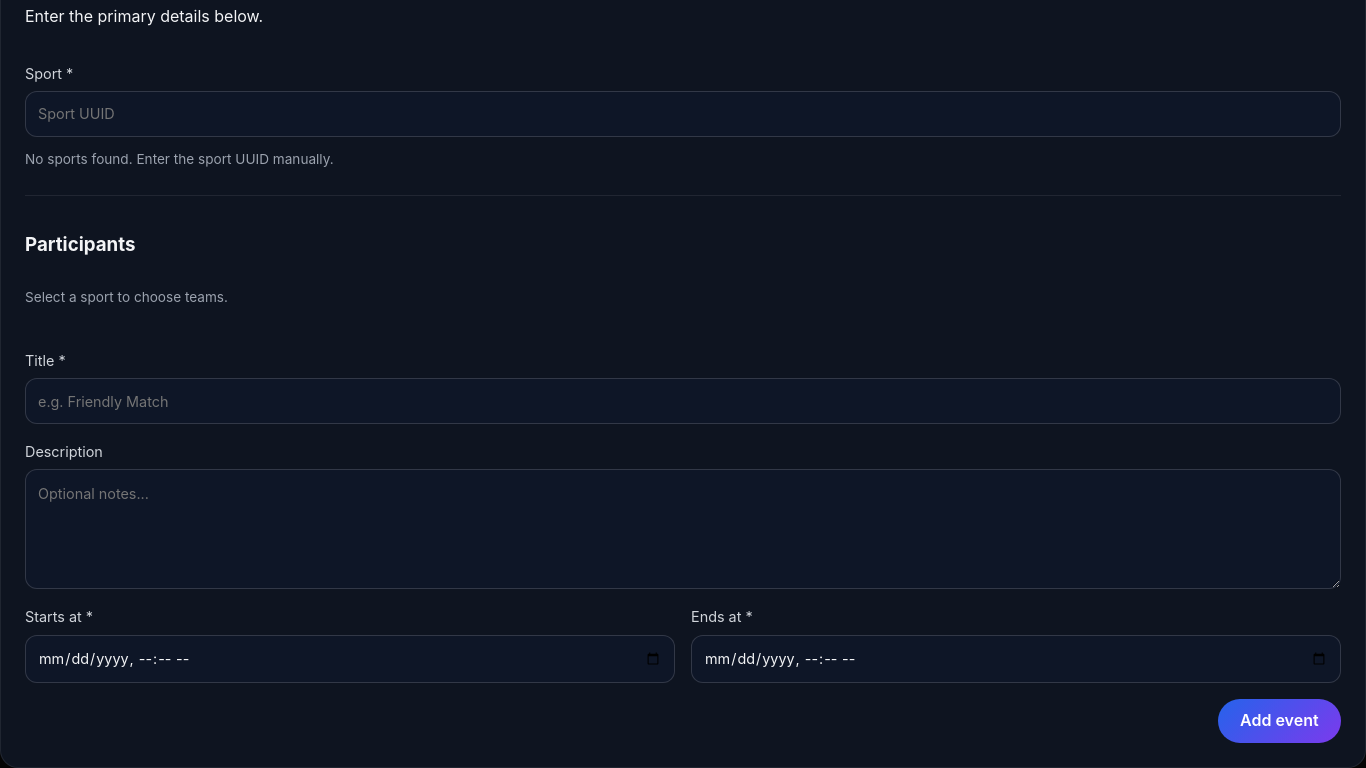
Test case: EventForm › shows validation error when fields are missing
(page scrolled)
Step 1. Click the button "Add event" → (1279, 721), box [1218,699,1341,743]
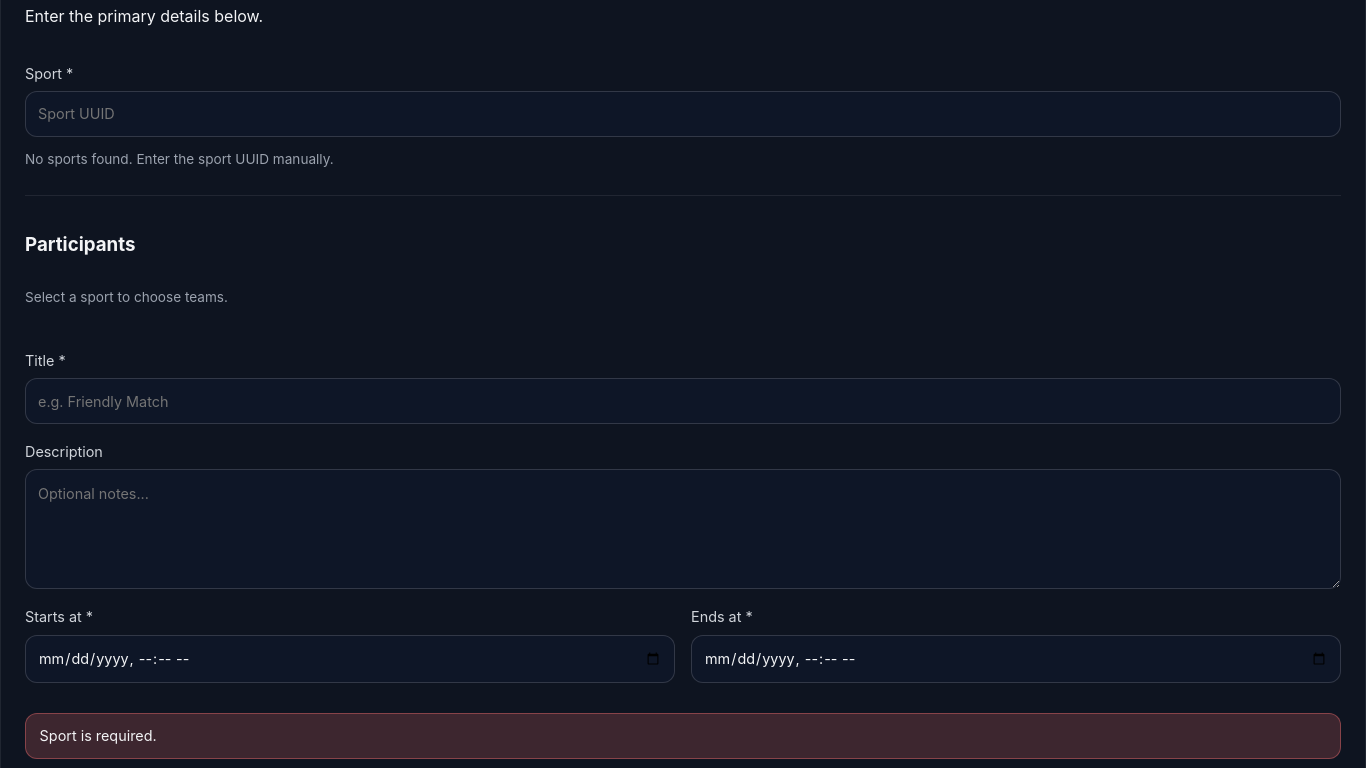
Now the text "Sport is required." is shown, box [25,713,1341,759]
